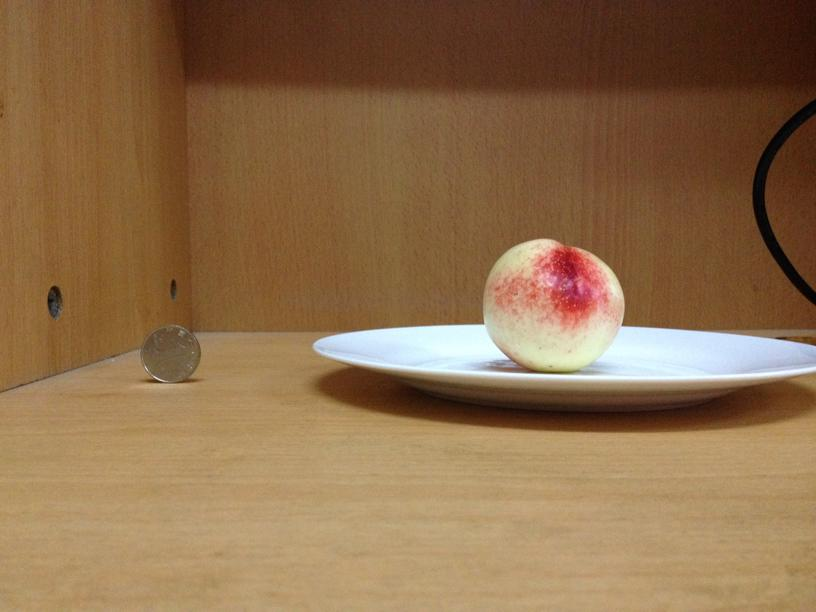coin: (139, 324, 201, 385)
peach: (479, 236, 623, 372)
